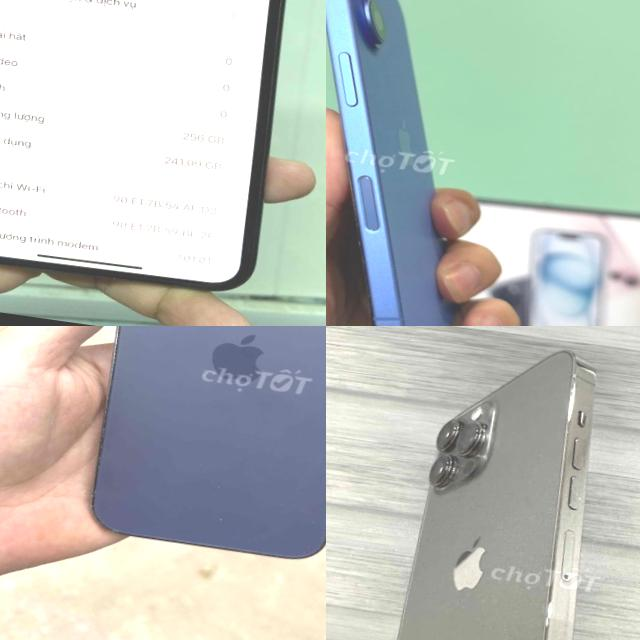gen_12_13: (363, 327, 640, 640)
gen_14: (80, 326, 326, 573)
gen_16: (326, 0, 454, 326)
gen_x_xs: (0, 0, 326, 319)
